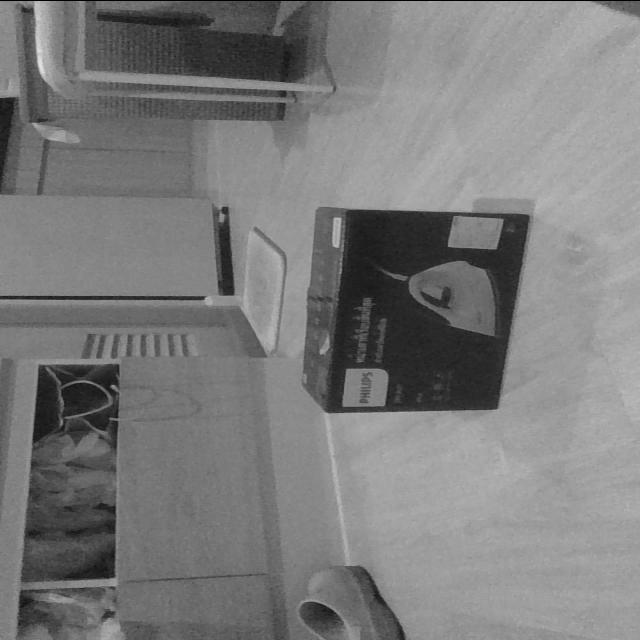IRON: (296, 204, 534, 415)
